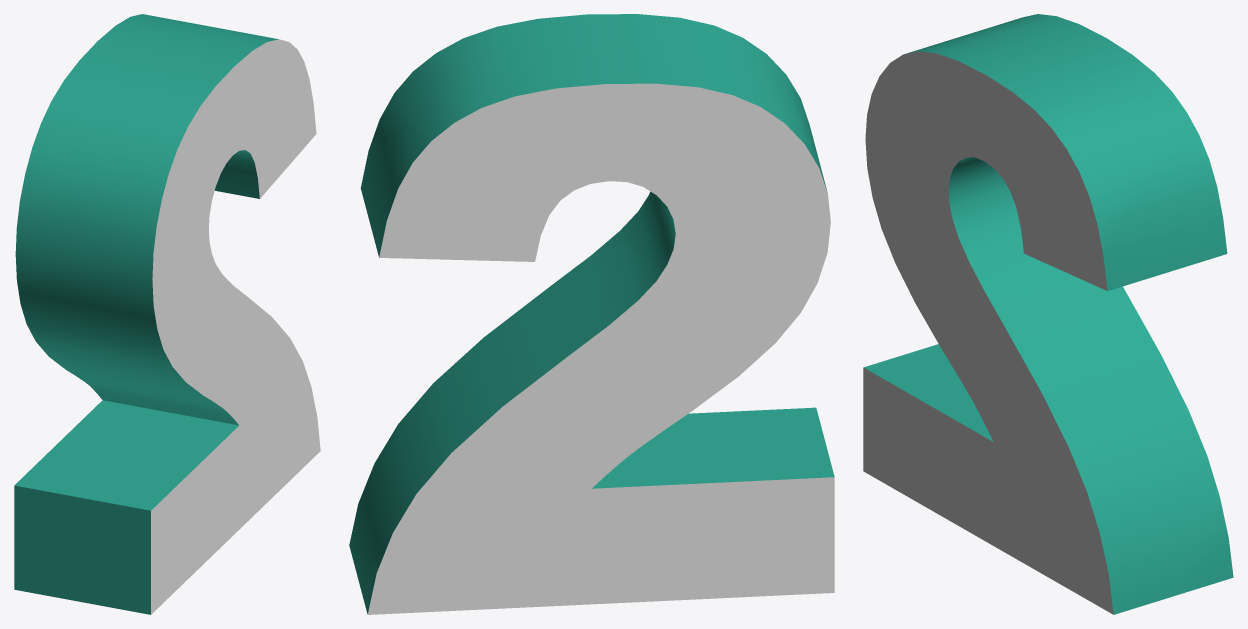
File: textxx2x.gltf
3 renders of one model, left to right at view 1: azimuth 30°, elevation 25°; view 2: azimuth 150°, elevation 25°; view 3: azimuth 270°, elevation 25°, orthographic. The views are drawn at different scales.
Visible parts, largest first — view 1: polySurface11; view 2: polySurface11; view 3: polySurface11.
Part boxes in pixels (box(x1,y1,x2,y2)): polySurface11: box(14, 14, 320, 614); polySurface11: box(349, 14, 834, 614); polySurface11: box(863, 14, 1233, 614).
Bounding box in the file's own units: 0.0639 × 0.0768 × 0.0552.
Materials: 1 (1 with a texture image).
